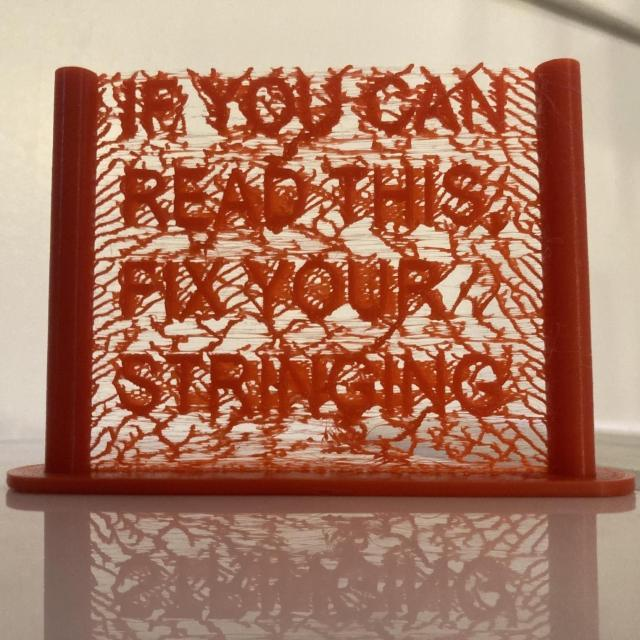Stringing: (86, 73, 549, 475)
